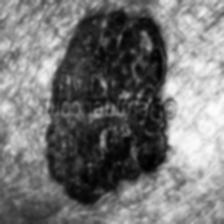Potentially Malignant Skin Tumors: (46, 11, 166, 203)
